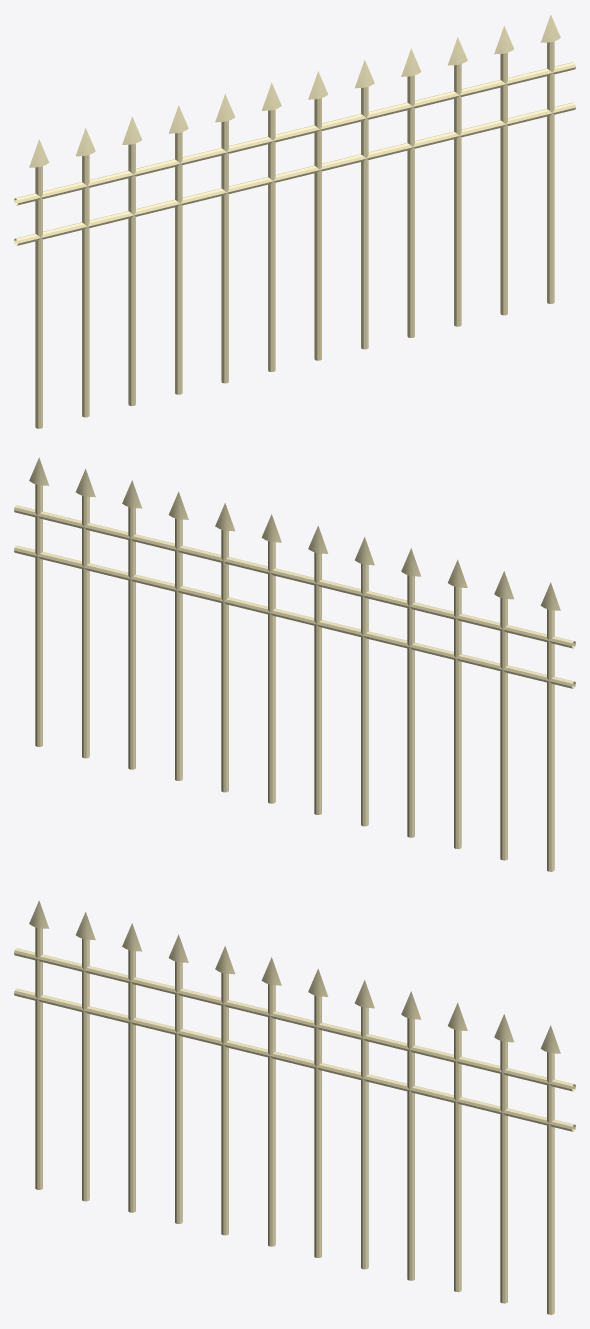
File: fence.fbx
3 renders of one model, top to bottom at view 1: azimuth 30°, elevation 25°; view 2: azimuth 150°, elevation 25°; view 3: azimuth 330°, elevation 25°, orthographic.
Visible parts, largest first — view 1: Cylinder; view 2: Cylinder; view 3: Cylinder.
Part boxes in pixels (x1,y1,x2,y2): Cylinder: (14, 14, 575, 428); Cylinder: (14, 457, 575, 871); Cylinder: (14, 900, 575, 1314).
Size of the model in its own units: 506 by 250 by 6.71.
